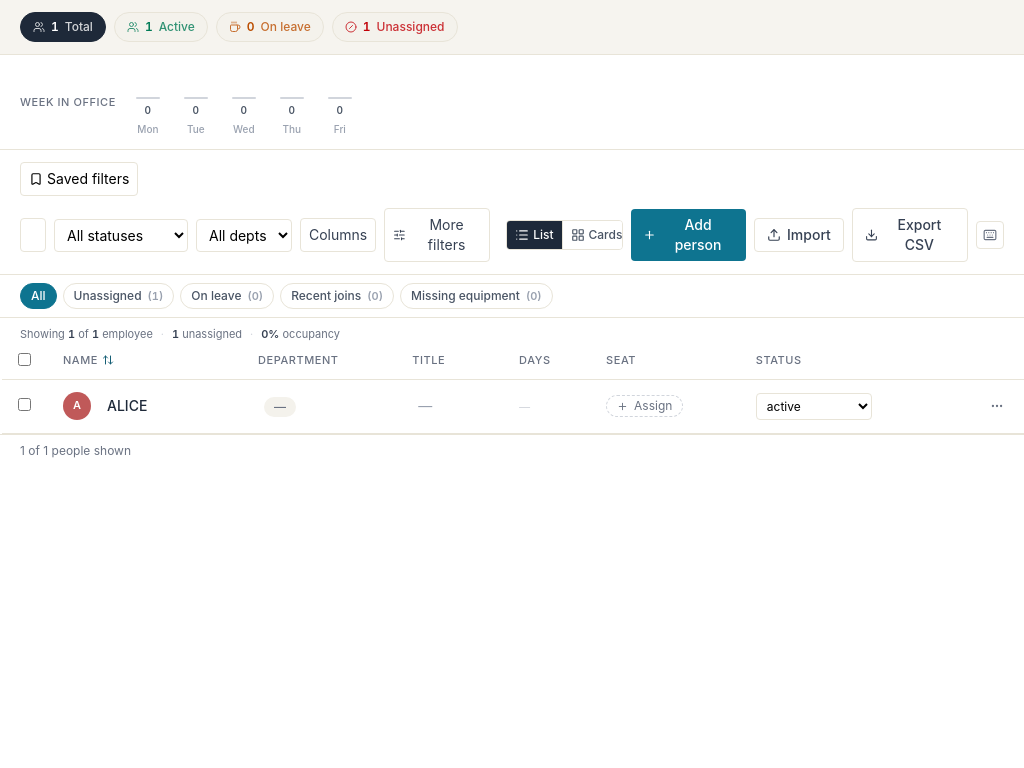
Test: RosterDetailDrawer — scheduled status changes › adds a scheduled change that appears in the list and on the employee
The width and height of the screenshot is (1024, 768).
Double-click the text "ALICE" at (512, 406), box [1, 379, 1023, 433]
(page scrolled)
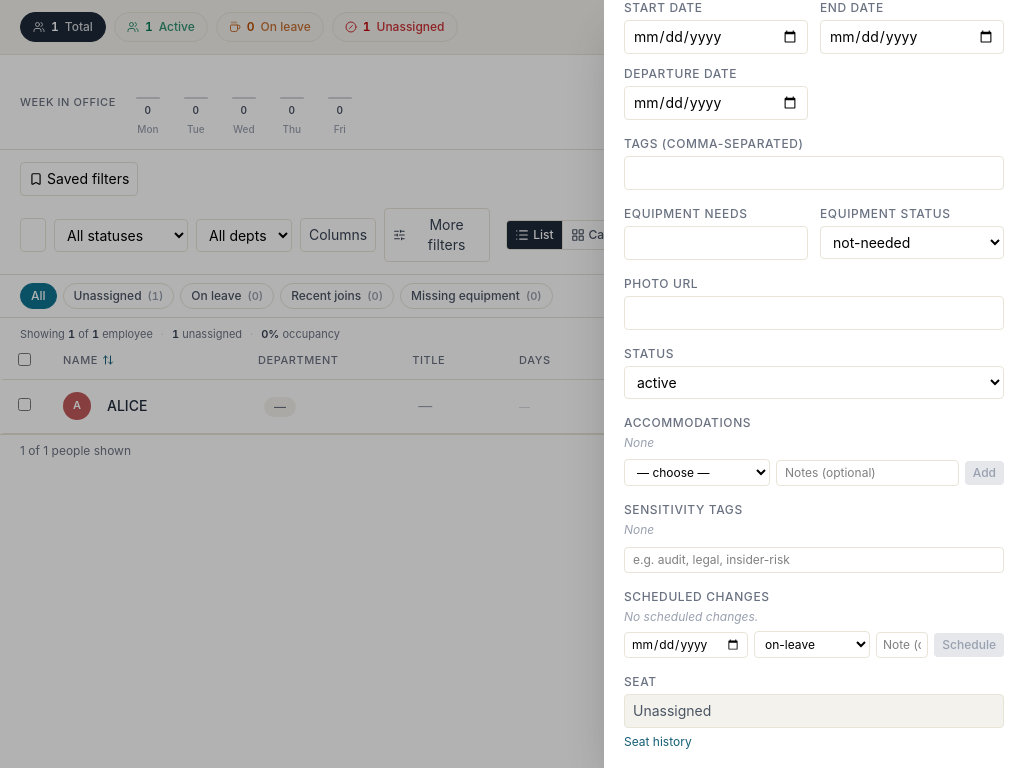
Type "2025-07-01" into the date field named "Effective date" at (686, 644), box [624, 632, 748, 658]
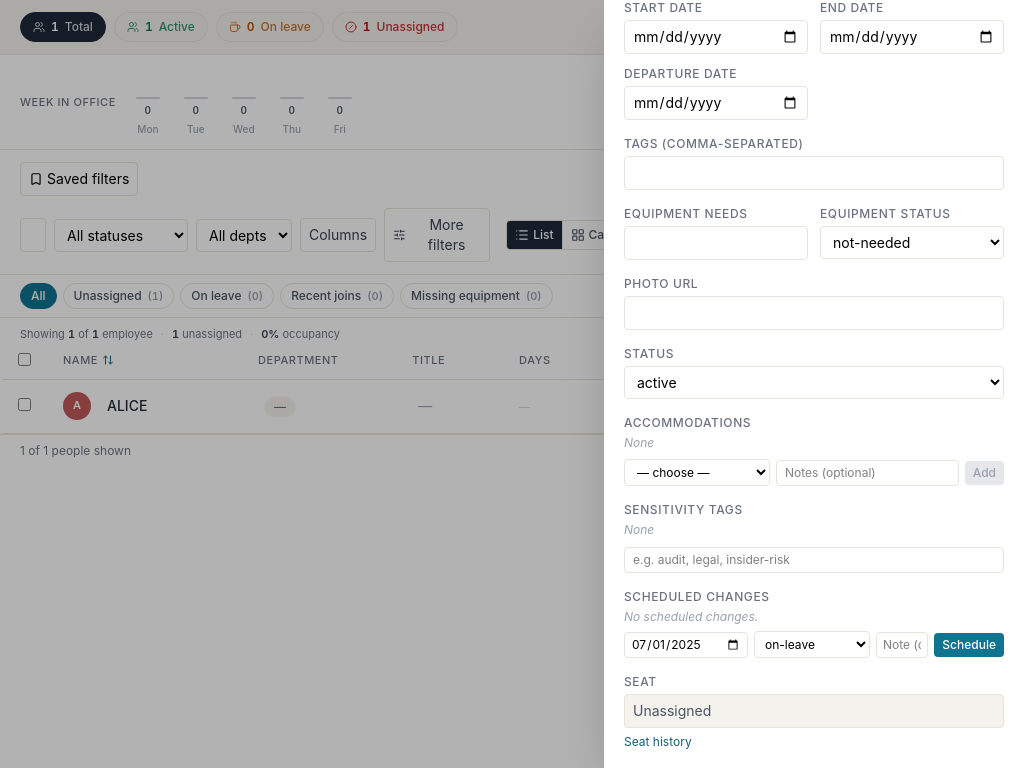
Select "on-leave" in the dropdown named "New status" at (812, 644), box [754, 631, 870, 658]
Type "parental" into the field labelled "Note" at (902, 644), box [876, 632, 928, 658]
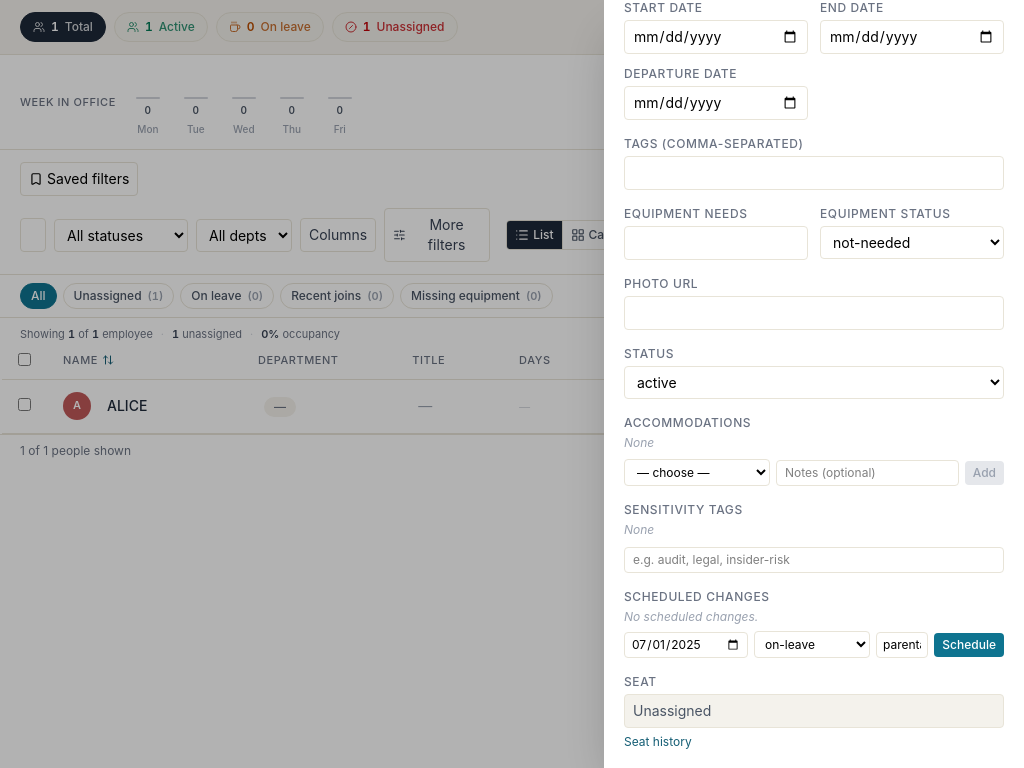
Click the button "Schedule" at (969, 644), box [934, 632, 1004, 656]
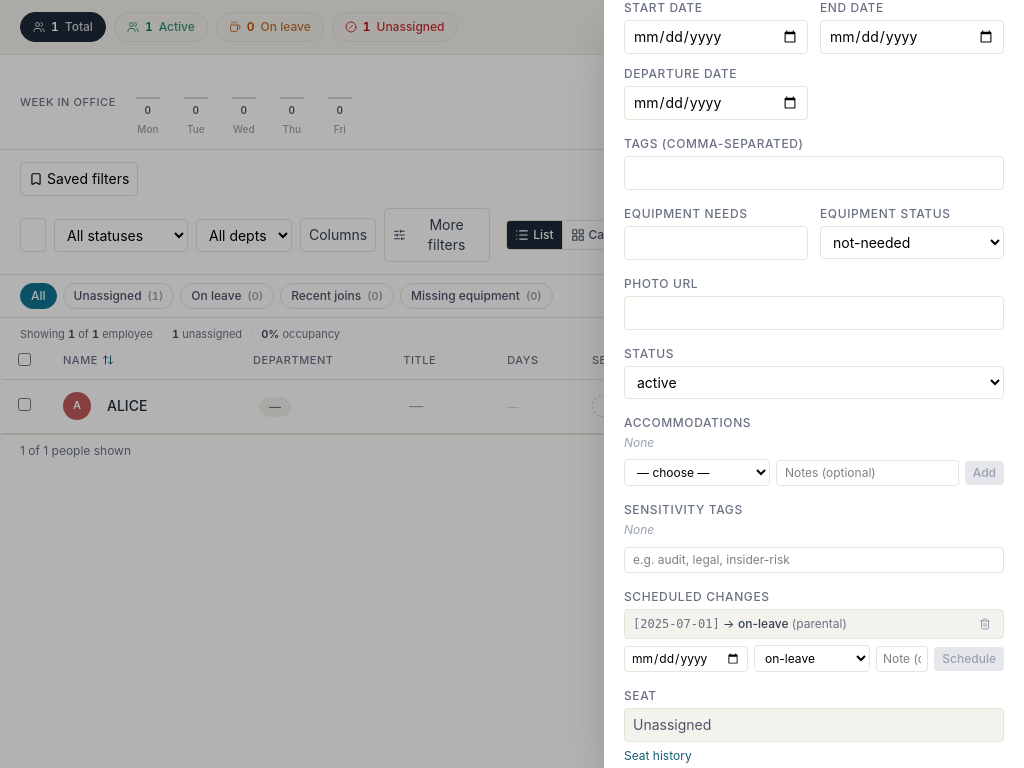
Expected: the text "[2025-07-01]" is shown, [633, 617, 720, 631]
Expected: the text "(parental)" is shown, [788, 616, 847, 631]
